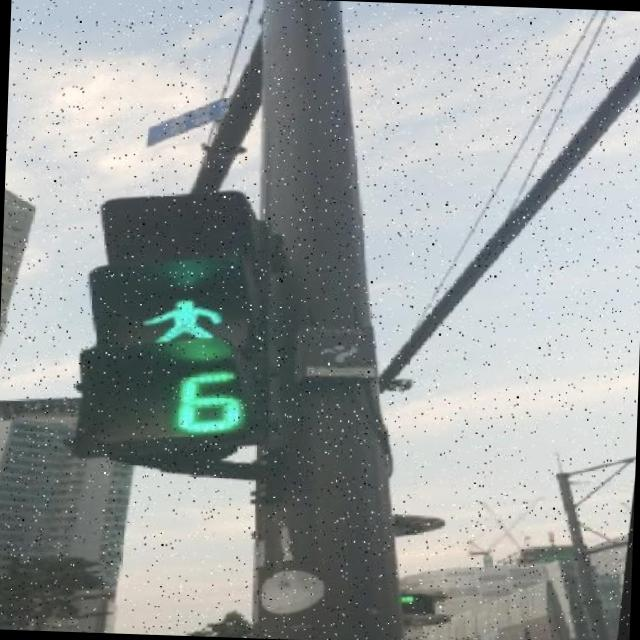green_light: (99, 276, 268, 446)
